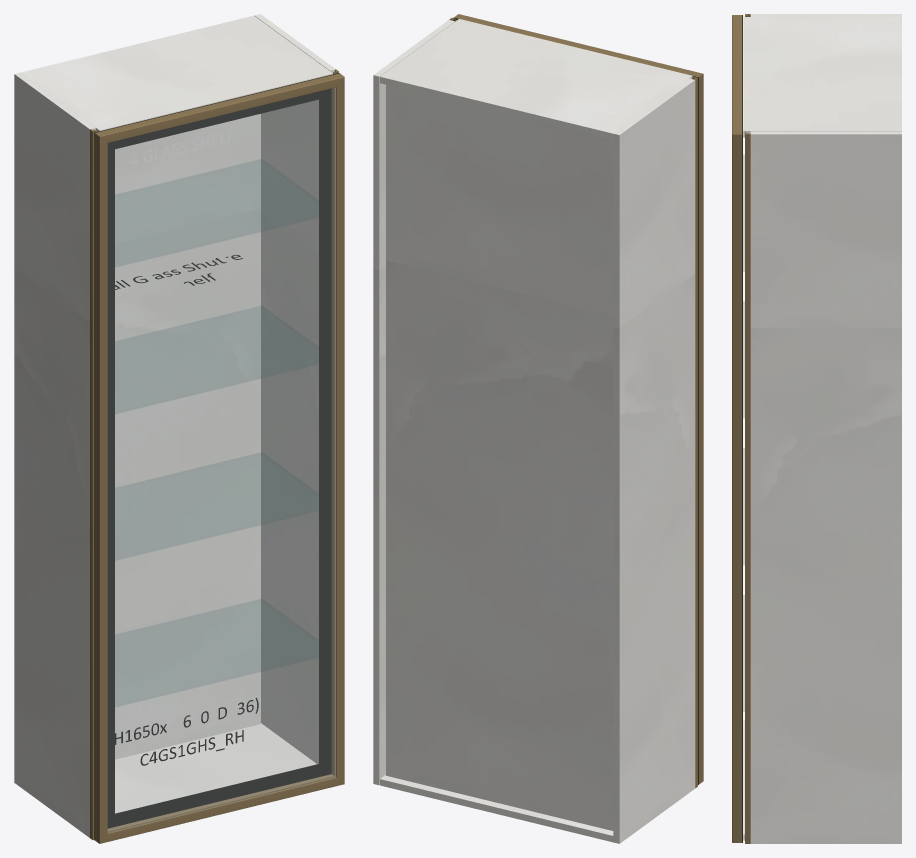
File: MDW-SH-NHX-GL-4SG-RHS-XXX-600-1650-336-15.glb
3 views of the same model, side by side, from view 1: azimuth 30°, elevation 25°; view 2: azimuth 150°, elevation 25°; view 3: azimuth 270°, elevation 25° (orthographic).
Visible parts, largest first — view 1: Object_node_13, TP_node_2, TP_node_0, TP_node_1, Neon 22 Profile ALU PROF NEON 20 L21XH22.5MM 3MTR S2/405 SEC (×4), Object_node_15, TP, TP_node, Object_node_17; view 2: TP_node_2, TP_node_0, TP, TP_node_1, Neon 22 Profile ALU PROF NEON 20 L21XH22.5MM 3MTR S2/405 SEC (×2), TP_node, Object_node_17, Object_node_15; view 3: TP_node_1, TP, Neon 22 Profile ALU PROF NEON 20 L21XH22.5MM 3MTR S2/405 SEC (×2), Object_node_23, Object_node_15, TP_node_0.
Part boxes in pixels (<box>): Object_node_13: <box>108,88,335,832</box>; TP_node_2: <box>115,114,260,759</box>; TP_node_0: <box>14,72,95,837</box>; TP_node_1: <box>254,14,335,764</box>; Neon 22 Profile ALU PROF NEON 20 L21XH22.5MM 3MTR S2/405 SEC (×4): <box>94,73,344,843</box>; Object_node_15: <box>94,73,339,839</box>; TP: <box>21,15,332,131</box>; TP_node: <box>115,723,316,813</box>; Object_node_17: <box>90,129,97,839</box>; TP_node_2: <box>386,84,613,830</box>; TP_node_0: <box>613,78,695,843</box>; TP: <box>380,19,692,139</box>; TP_node_1: <box>373,20,454,785</box>; Neon 22 Profile ALU PROF NEON 20 L21XH22.5MM 3MTR S2/405 SEC (×2): <box>454,14,703,784</box>; TP_node: <box>380,775,613,842</box>; Object_node_17: <box>692,76,697,788</box>; Object_node_15: <box>453,17,698,784</box>; TP_node_1: <box>750,131,901,843</box>; TP: <box>743,17,901,137</box>; Neon 22 Profile ALU PROF NEON 20 L21XH22.5MM 3MTR S2/405 SEC (×2): <box>732,15,742,842</box>; Object_node_23: <box>745,132,750,843</box>; Object_node_15: <box>742,15,742,842</box>; TP_node_0: <box>750,14,901,16</box>.
Size of what is drawn, in the model's own units: 0.6001 by 1.65 by 0.358.
Materials: 7 (1 with a texture image).
